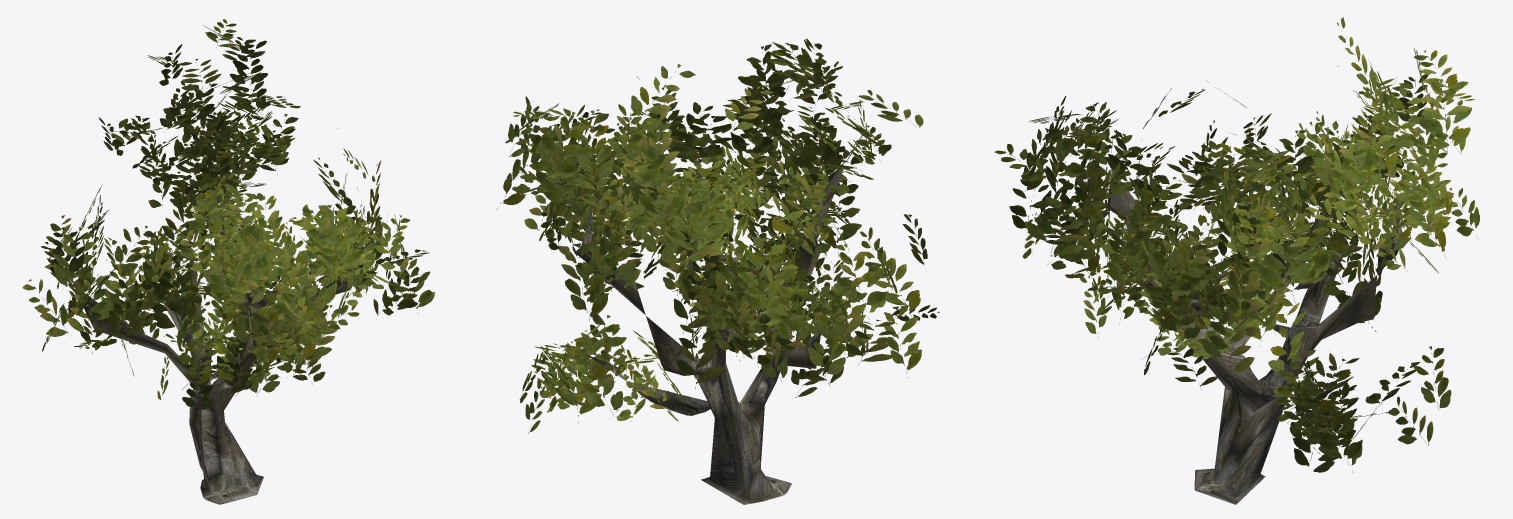
The model's file is arbol_isla1_lod1.glb.
3 views of the same model, side by side, from view 1: azimuth 30°, elevation 25°; view 2: azimuth 150°, elevation 25°; view 3: azimuth 270°, elevation 25° (orthographic). The views are drawn at different scales.
Parts seen in each view (by area): view 1: island_tree_01_LOD0; view 2: island_tree_01_LOD0; view 3: island_tree_01_LOD0.
Part boxes in pixels (box(x1,y1,x2,y2)): island_tree_01_LOD0: box(22, 19, 434, 504); island_tree_01_LOD0: box(497, 38, 939, 504); island_tree_01_LOD0: box(995, 17, 1480, 504).
Bounding box in the file's own units: 8.28 × 8.5 × 8.37.
3 materials, 3 textured.
